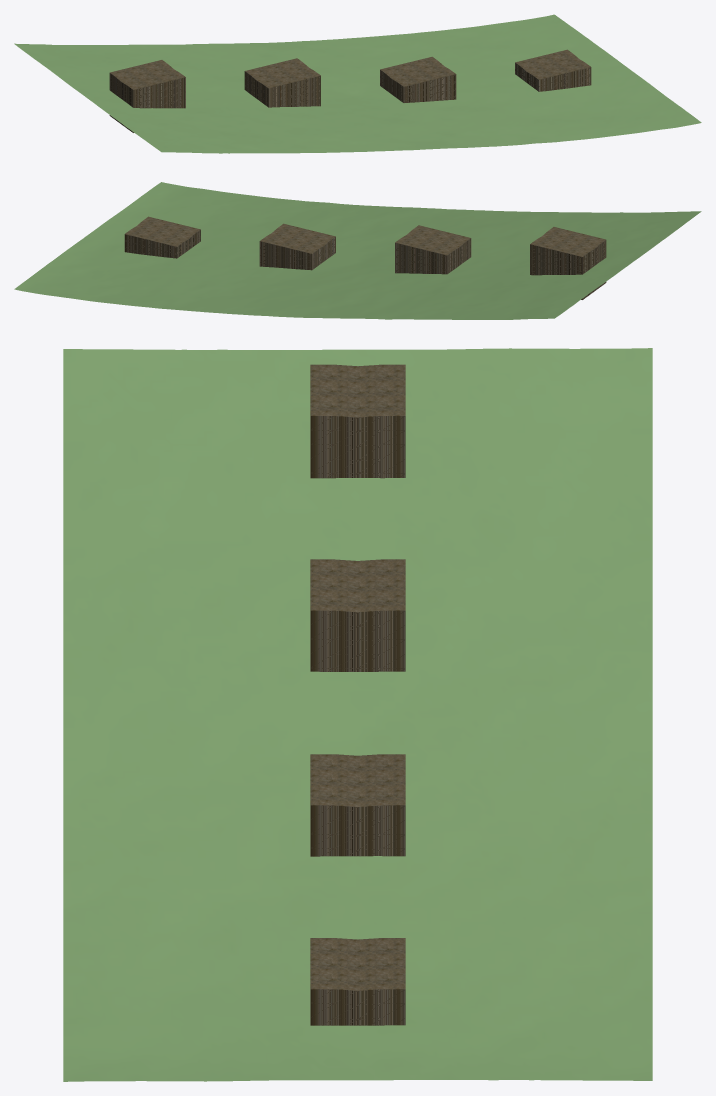
Rendered from soil-catena.glb.
3 views of the same model, one above another, from view 1: azimuth 30°, elevation 25°; view 2: azimuth 150°, elevation 25°; view 3: azimuth 270°, elevation 25° (orthographic). The views are drawn at different scales.
Parts seen in each view (by area): view 1: Catena_Slope, Catena_Crest, Catena_Shoulder, Catena_Backslope, Catena_Toe; view 2: Catena_Slope, Catena_Crest, Catena_Shoulder, Catena_Backslope, Catena_Toe; view 3: Catena_Slope, Catena_Crest, Catena_Shoulder, Catena_Backslope, Catena_Toe.
Part boxes in pixels (x1,y1,x2,y2): Catena_Slope: (14,14,701,153); Catena_Crest: (109,60,185,132); Catena_Shoulder: (244,58,320,107); Catena_Backslope: (380,56,456,102); Catena_Toe: (515,49,591,91); Catena_Slope: (14,182,701,319); Catena_Crest: (530,227,606,299); Catena_Shoulder: (395,225,471,274); Catena_Backslope: (259,223,335,270); Catena_Toe: (124,216,200,258); Catena_Slope: (63,348,652,1081); Catena_Crest: (310,364,405,478); Catena_Shoulder: (310,559,405,671); Catena_Backslope: (310,754,405,856); Catena_Toe: (310,938,405,1025).
Bounding box in the file's own units: 7.2 × 1.68 × 3.4.
2 materials, 1 textured.
